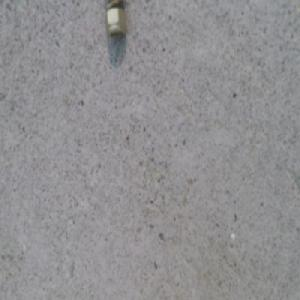BoltNutSet: (105, 0, 125, 44)
